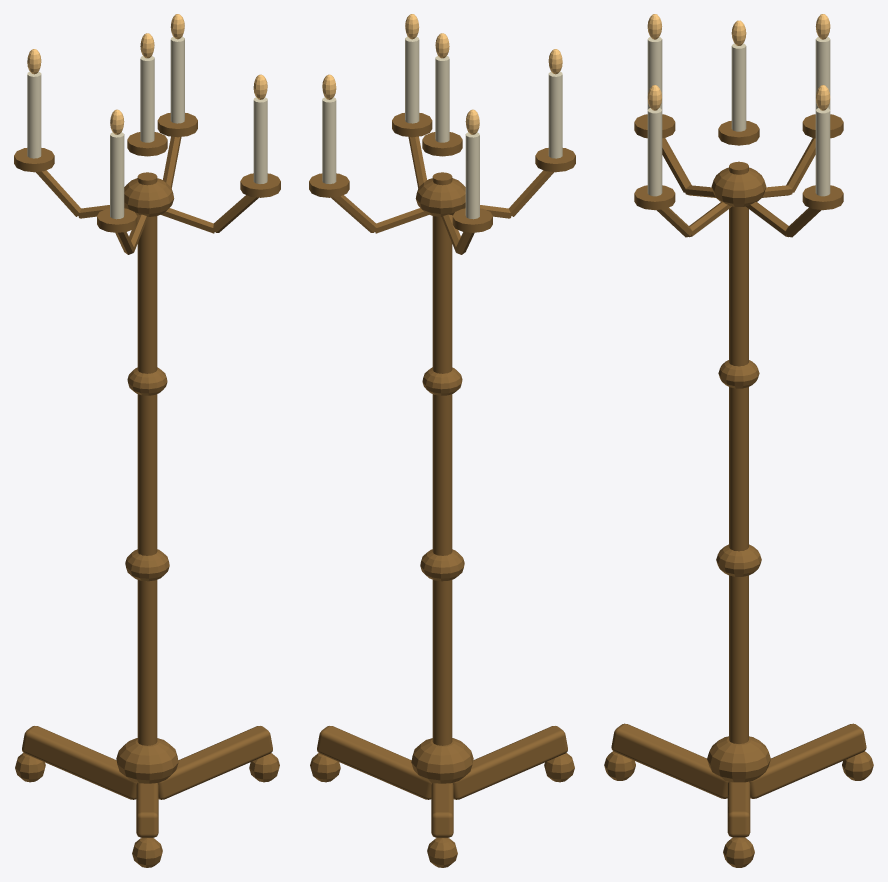
File: candelabrum.glb
The picture shows the model from 3 angles, left to right: view 1: azimuth 30°, elevation 25°; view 2: azimuth 150°, elevation 25°; view 3: azimuth 270°, elevation 25°; orthographic projection.
Visible parts, largest first — view 1: schaft, fuss1, fuss0, Sphere.003, Sphere.006, kerze0, kerze1, kerze2, kerze4, kerze3, fuss2, Sphere.004 (+13 smaller); view 2: schaft, fuss2, fuss0, Sphere.003, Sphere.006, kerze0, kerze3, kerze4, kerze1, kerze2, fuss1, Sphere.004 (+13 smaller); view 3: schaft, fuss1, fuss2, Sphere.003, Sphere.006, kerze1, kerze4, kerze0, fuss0, Sphere.004, Sphere.005, kerze2 (+11 smaller).
Part boxes in pixels (x1,y1,x2,y2): schaft: (137,172,157,745); fuss1: (22,726,136,799); fuss0: (158,726,272,799); Sphere.003: (116,738,178,783); Sphere.006: (124,178,174,216); kerze0: (140,56,154,142); kerze1: (170,36,184,123); kerze2: (27,71,41,158); kerze4: (253,97,267,183); kerze3: (110,132,124,219); fuss2: (136,783,158,837); Sphere.004: (125,549,169,581); schaft: (432,172,452,745); fuss2: (453,726,567,799); fuss0: (317,726,431,799); Sphere.003: (411,738,473,783); Sphere.006: (415,178,465,216); kerze0: (435,56,449,142); kerze3: (548,71,562,158); kerze4: (405,36,419,123); kerze1: (322,97,336,183); kerze2: (465,132,479,219); fuss1: (431,783,453,837); Sphere.004: (420,549,464,581); schaft: (729,161,748,743); fuss1: (749,723,866,798); fuss2: (611,723,728,798); Sphere.003: (707,736,770,782); Sphere.006: (711,167,766,206); kerze1: (815,108,830,196); kerze4: (647,108,662,196); kerze0: (731,43,746,131); fuss0: (727,781,750,837); Sphere.004: (716,544,761,576); Sphere.005: (718,360,759,388); kerze2: (815,37,830,109).
Size of the model in its own units: 0.5621 by 1.9 by 0.5896.
